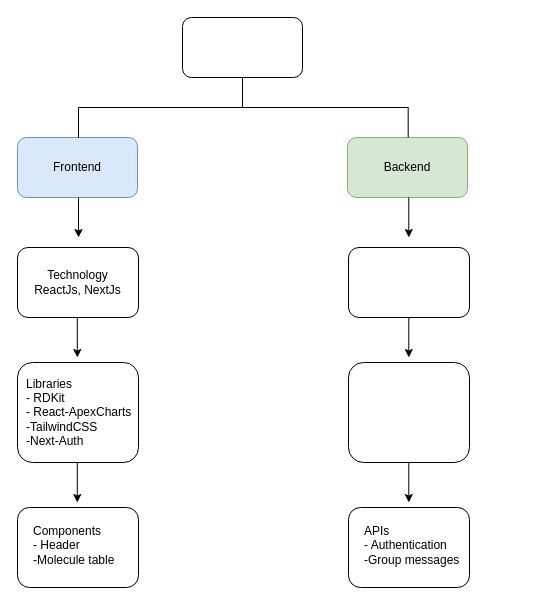
Some shapes in this 543 by 605 pixel diagram are drawn without their labels. The shapes that lost their labels are listed below. From the top down, each one's centre as x and y in pixels, then its label:
(242,47): System Architecture
(409,282): Technology NextJs
(409,412): Database - Mongodb (mongoose)
